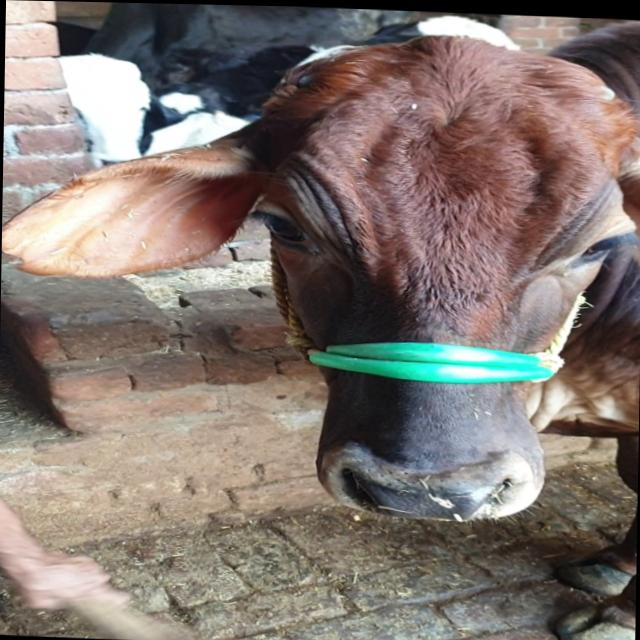cowFace: (182, 29, 640, 532), (33, 46, 147, 168)
